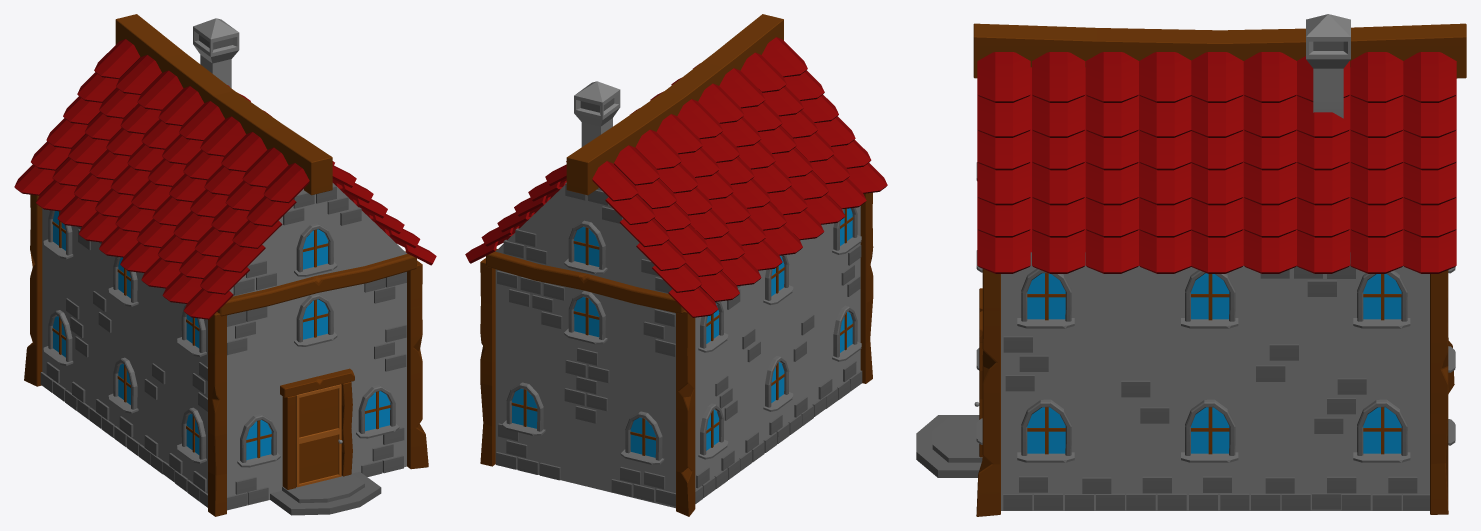
The model's file is House1.fbx.
3 views of the same model, side by side, from view 1: azimuth 30°, elevation 25°; view 2: azimuth 150°, elevation 25°; view 3: azimuth 270°, elevation 25° (orthographic). The views are drawn at different scales.
Parts seen in each view (by area): view 1: Cube, Cube.002, Plane.008, Plane.013, Plane.011, Plane.009, Plane.012, Plane.010, Plane.001, Cube.151, Cube.011, Cube.017 (+9 smaller); view 2: Cube, Cube.002, Plane.008, Plane.013, Plane.011, Plane.009, Plane.012, Plane.010, Cube.151, Cube.014, Cube.024, Cube.015 (+7 smaller); view 3: Cube, Cube.002, Plane.007, Plane.006, Plane.004, Plane.002, Plane.005, Plane.003, Cube.151, Plane.001, Cube.013, Cube.010 (+4 smaller).
Part boxes in pixels (left/top/right/bottom): Cube: left=42, top=183, right=406, bottom=509; Cube.002: left=24, top=14, right=428, bottom=516; Plane.008: left=94, top=39, right=309, bottom=203; Plane.013: left=14, top=164, right=233, bottom=319; Plane.011: left=46, top=118, right=265, bottom=272; Plane.009: left=77, top=72, right=296, bottom=226; Plane.012: left=31, top=141, right=249, bottom=294; Plane.010: left=63, top=96, right=282, bottom=248; Plane.001: left=270, top=471, right=381, bottom=515; Cube.151: left=193, top=18, right=239, bottom=88; Cube.011: left=356, top=385, right=399, bottom=438; Cube.017: left=294, top=293, right=337, bottom=346; Cube: left=495, top=185, right=860, bottom=508; Cube.002: left=480, top=14, right=873, bottom=516; Plane.008: left=592, top=37, right=807, bottom=201; Plane.013: left=668, top=163, right=887, bottom=317; Plane.011: left=636, top=116, right=855, bottom=270; Plane.009: left=605, top=70, right=824, bottom=224; Plane.012: left=652, top=140, right=871, bottom=292; Plane.010: left=619, top=95, right=838, bottom=247; Cube.151: left=574, top=81, right=620, bottom=146; Cube.014: left=620, top=411, right=664, bottom=464; Cube.024: left=564, top=291, right=607, bottom=344; Cube.015: left=502, top=382, right=545, bottom=435; Cube: left=974, top=67, right=1429, bottom=510; Cube.002: left=973, top=23, right=1466, bottom=516; Plane.007: left=977, top=52, right=1456, bottom=102; Plane.006: left=977, top=229, right=1456, bottom=273; Plane.004: left=977, top=162, right=1456, bottom=205; Plane.002: left=977, top=95, right=1456, bottom=137; Plane.005: left=977, top=197, right=1456, bottom=237; Plane.003: left=977, top=129, right=1456, bottom=170; Cube.151: left=1306, top=14, right=1350, bottom=118; Plane.001: left=916, top=415, right=982, bottom=477; Cube.013: left=1017, top=399, right=1074, bottom=462; Cube.010: left=1353, top=399, right=1410, bottom=462.
Size of the model in its own units: 12.53 by 17.74 by 19.29.
